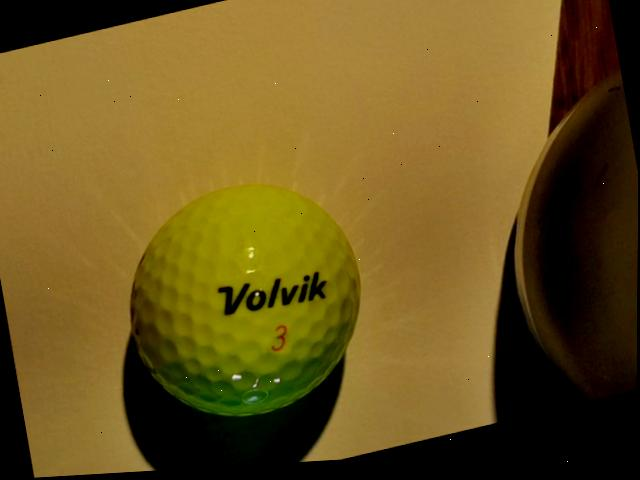Ball: (110, 163, 380, 445)
Volvik: (217, 267, 329, 325)
